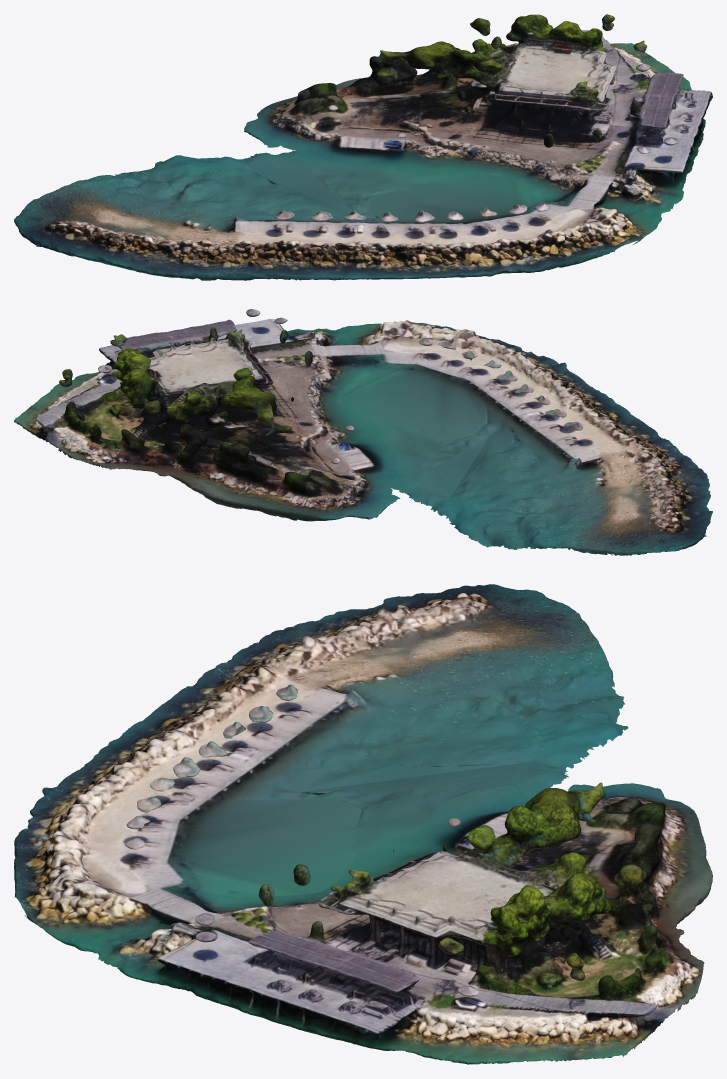
Rendered from karpen_albania__drone_3d_scan.glb.
3 views of the same model, one above another, from view 1: azimuth 30°, elevation 25°; view 2: azimuth 150°, elevation 25°; view 3: azimuth 270°, elevation 25° (orthographic). The views are drawn at different scales.
Visible parts, largest first — view 1: Object_2, Object_3, Object_4; view 2: Object_2, Object_3, Object_4; view 3: Object_2, Object_3, Object_4.
Part boxes in pixels (x1,y1,x2,y2): Object_2: (14,105,703,280); Object_3: (155,14,712,188); Object_4: (130,14,712,280); Object_2: (162,310,712,555); Object_3: (14,322,520,546); Object_4: (20,309,709,520); Object_2: (14,584,628,1028); Object_3: (173,698,712,1064); Object_4: (14,621,712,1057).
Bounding box in the file's own units: 16.05 × 1.88 × 10.06.
1 material, 1 textured.
